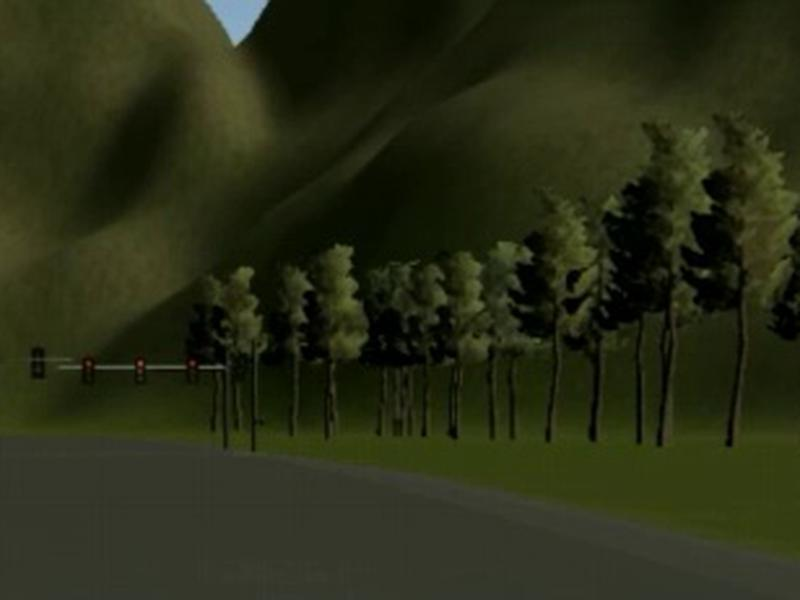Red: (82, 353, 96, 386), (185, 356, 199, 387), (135, 358, 147, 383)
